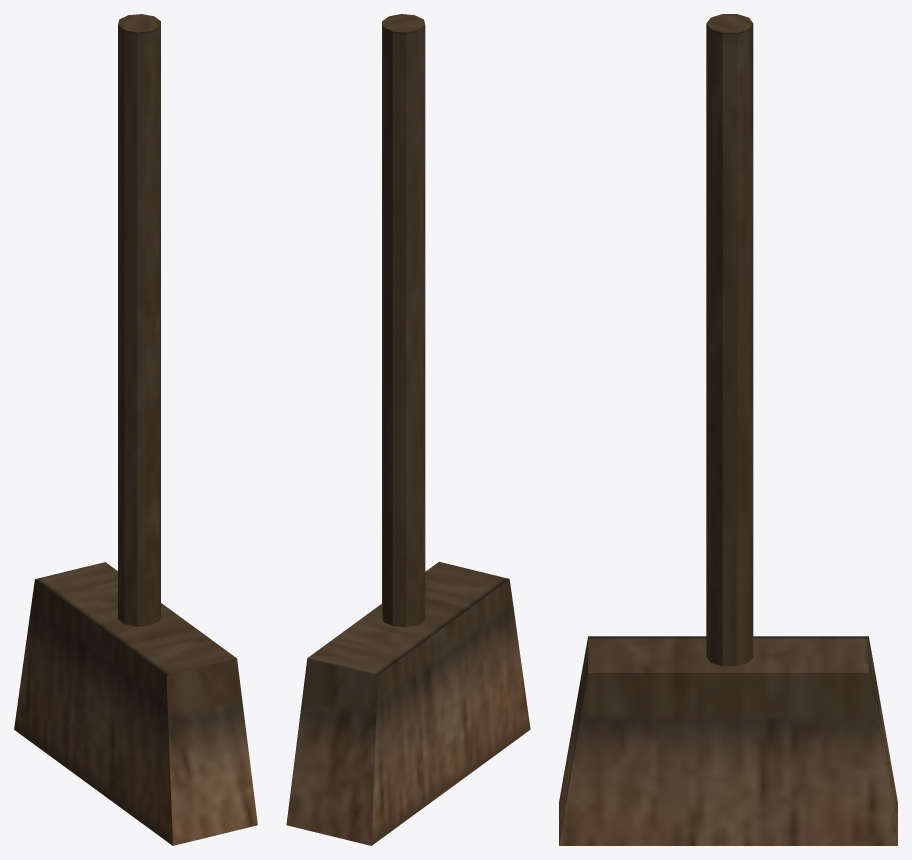
File: vassoura.glb
3 renders of one model, left to right at view 1: azimuth 30°, elevation 25°; view 2: azimuth 150°, elevation 25°; view 3: azimuth 270°, elevation 25°, orthographic. The views are drawn at different scales.
Parts seen in each view (by area): view 1: Cube.001; view 2: Cube.001; view 3: Cube.001.
Part boxes in pixels (x1,y1,x2,y2): Cube.001: (14, 14, 257, 845); Cube.001: (286, 14, 530, 845); Cube.001: (559, 14, 897, 845).
Size of the model in its own units: 0.1375 by 1.16 by 0.4449.
1 material, 1 textured.
